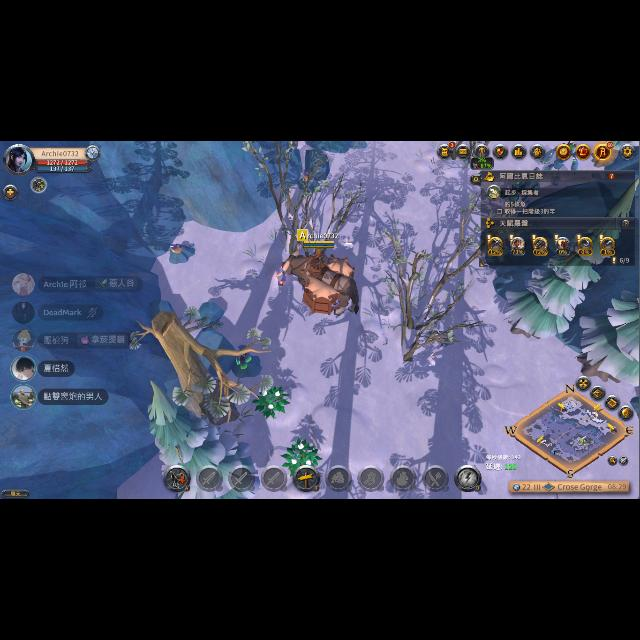mine_ii: (164, 241, 194, 261), (302, 172, 324, 190)
mine_iii: (230, 342, 256, 376)
